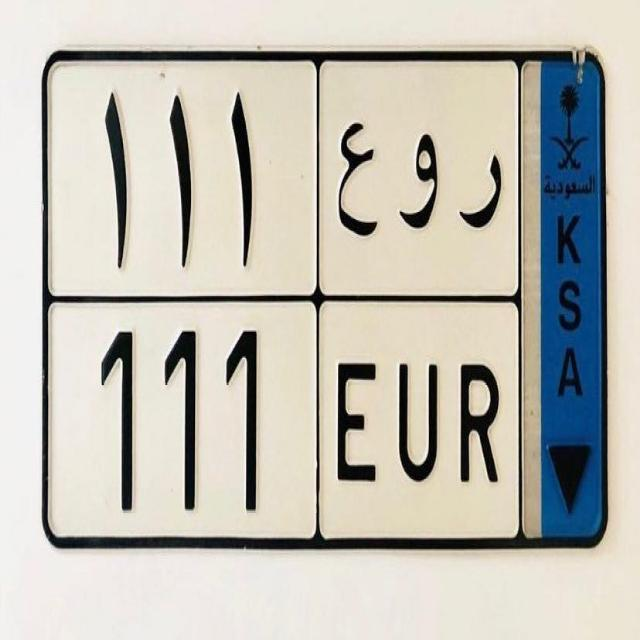license_plate: (90, 322, 509, 519)
